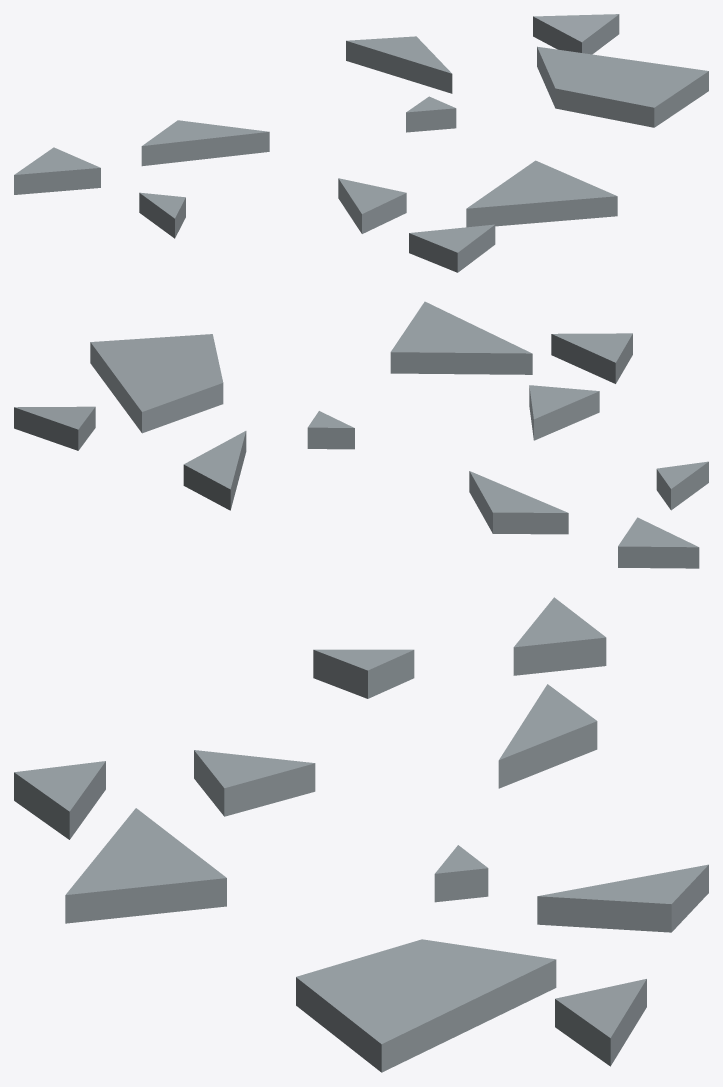
The model's file is SM_Prop_Glass_Shards_03.fbx.
The picture shows the model from 3 angles, top to bottom: view 1: azimuth 30°, elevation 25°; view 2: azimuth 150°, elevation 25°; view 3: azimuth 270°, elevation 25°; orthographic projection. The views are drawn at different scales.
Parts seen in each view (by area): view 1: SM_Prop_Glass_Shards_03; view 2: SM_Prop_Glass_Shards_03; view 3: SM_Prop_Glass_Shards_03.
Part boxes in pixels (box(x1,y1,x2,y2)): SM_Prop_Glass_Shards_03: box(14, 14, 708, 272); SM_Prop_Glass_Shards_03: box(14, 301, 708, 568); SM_Prop_Glass_Shards_03: box(14, 597, 708, 1072).
Bounding box in the file's own units: 112 × 4.41 × 74.84.
